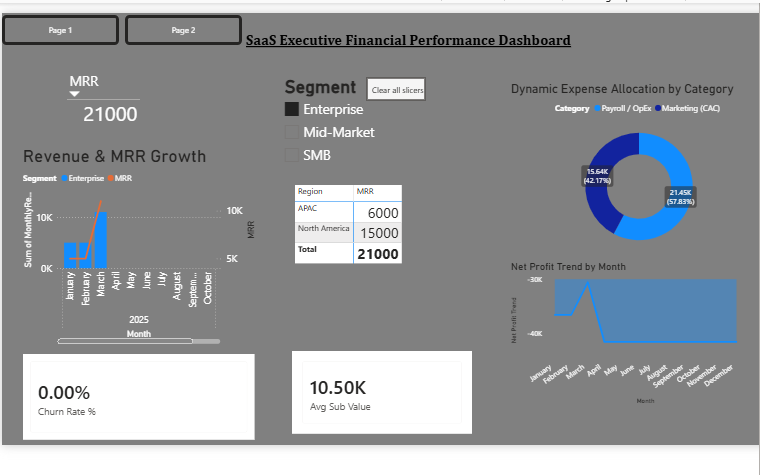

The page's visual inventory and layout, read from the dashboard file:
{"tool":"powerbi","page":{"name":"Page 1","canvas":[1280,720],"ordinal":0},"visuals":[{"type":"tableEx","fields":{"Values":["_DAX Measures.MRR"]},"box":[101.7,93.3,385,106.7],"z":0},{"type":"lineStackedColumnComboChart","title":"Revenue & MRR Growth","fields":{"Y":["Sum(Fact_Subscriptions.MonthlyRevenue)"],"Y2":["_DAX Measures.MRR"],"Category":["Fact_Subscriptions.Date.Variation.Date Hierarchy.Year","Fact_Subscriptions.Date.Variation.Date Hierarchy.Month"],"Series":["dim_customers.Segment"]},"box":[30,221.7,396.7,335],"z":1000},{"type":"slicer","fields":{"Values":["dim_customers.Segment"]},"box":[458.3,100,396.7,198.3],"z":2000},{"type":"pageNavigator","box":[0,3.3,400,50],"z":3000},{"type":"cardVisual","fields":{"Data":["_DAX Measures.Churn Rate %"]},"box":[30,563.3,396.7,153.3],"z":4000},{"type":"donutChart","fields":{"Category":["Fact_Expenses.Category"],"Y":["_DAX Measures.Dynamic Expense Allocation"]},"box":[843.3,115,436.7,296.7],"z":5000},{"type":"textbox","box":[401.7,25,600,55],"z":6000},{"type":"actionButton","box":[606.7,106.7,100,40],"z":7000},{"type":"areaChart","fields":{"Category":["Fact_Subscriptions.Date.Variation.Date Hierarchy.Year","Fact_Subscriptions.Date.Variation.Date Hierarchy.Month"],"Y":["_DAX Measures.Net Profit Trend"]},"box":[843.3,411.7,396.7,245],"z":8000},{"type":"cardVisual","fields":{"Data":["_DAX Measures.Avg Sub Value"]},"box":[483.3,563.3,300,138.3],"z":8001},{"type":"pivotTable","fields":{"Rows":["dim_customers.Region"],"Values":["_DAX Measures.MRR"]},"box":[483.3,281.7,313.3,258.3],"z":8002}]}

Visuals, with their boxes on the page's 1280x720 design canvas (x1, y1, x2, y2). These are canvas units, not pixel positions in the 760x475 screenshot, which may show the page scaled, cropped or inside an application window:
tableEx - _DAX Measures.MRR: [102,93,487,200]
"Revenue & MRR Growth" lineStackedColumnComboChart: [30,222,427,557]
slicer - dim_customers.Segment: [458,100,855,298]
pageNavigator: [0,3,400,53]
cardVisual - _DAX Measures.Churn Rate %: [30,563,427,717]
donutChart - Fact_Expenses.Category x _DAX Measures.Dynamic Expense Allocation: [843,115,1280,412]
textbox: [402,25,1002,80]
actionButton: [607,107,707,147]
areaChart - Fact_Subscriptions.Date.Variation.Date Hierarchy.Year x Fact_Subscriptions.Date.Variation.Date Hierarchy.Month: [843,412,1240,657]
cardVisual - _DAX Measures.Avg Sub Value: [483,563,783,702]
pivotTable - dim_customers.Region x _DAX Measures.MRR: [483,282,797,540]
